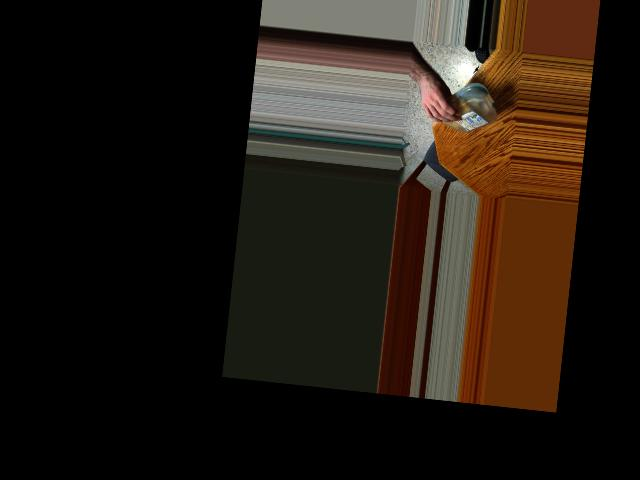cheese: (431, 80, 501, 139)
